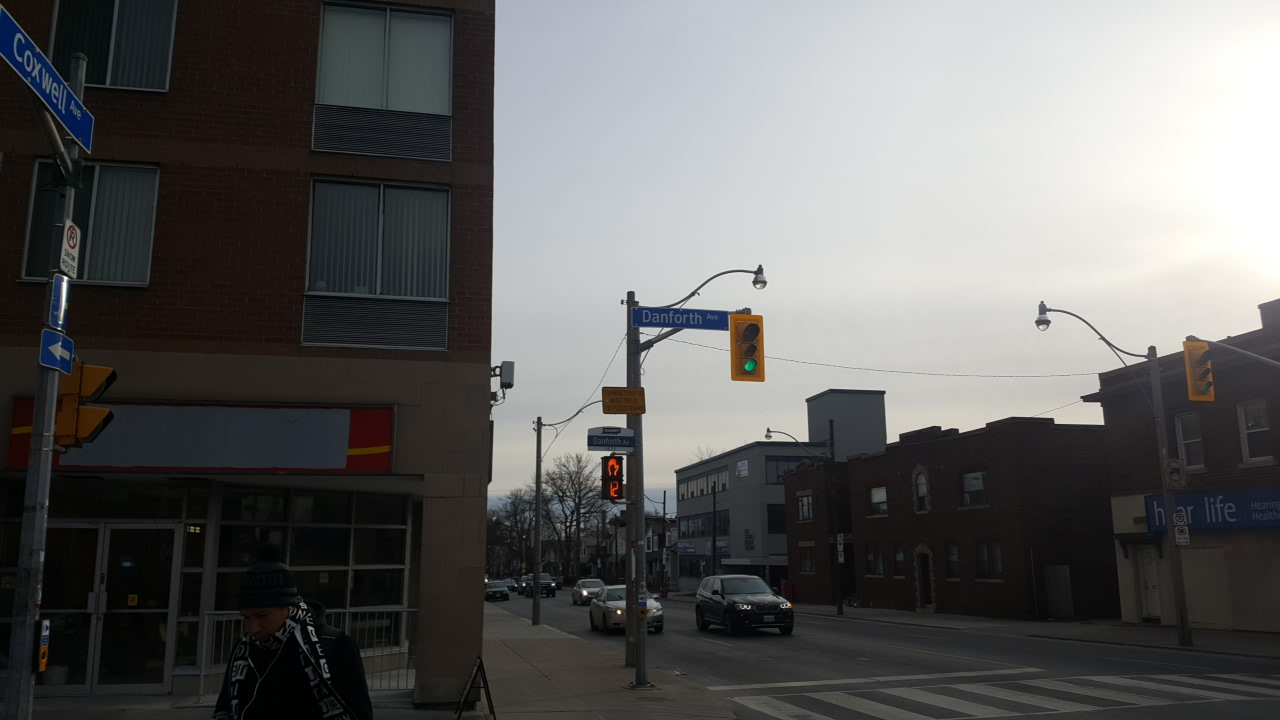light: (598, 452, 626, 501)
